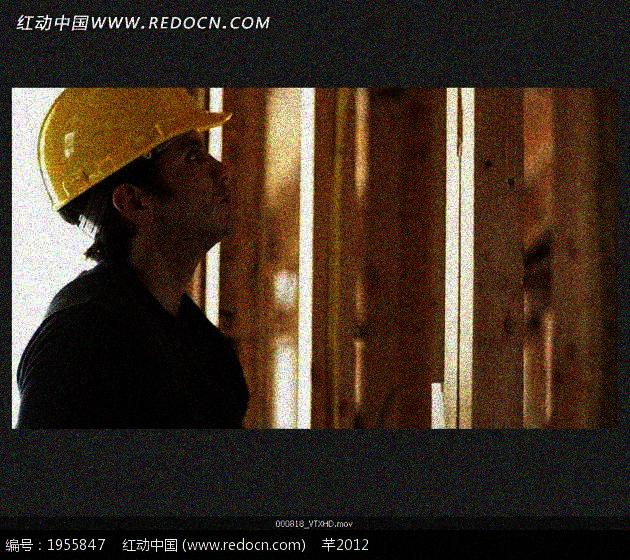helmet: (40, 91, 246, 239)
